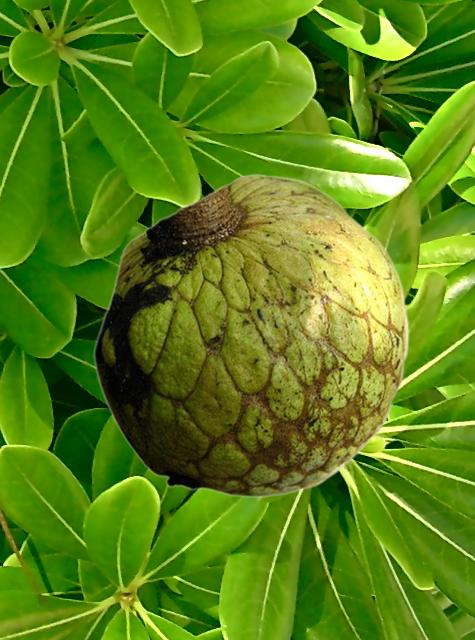atis: (92, 173, 408, 497)
